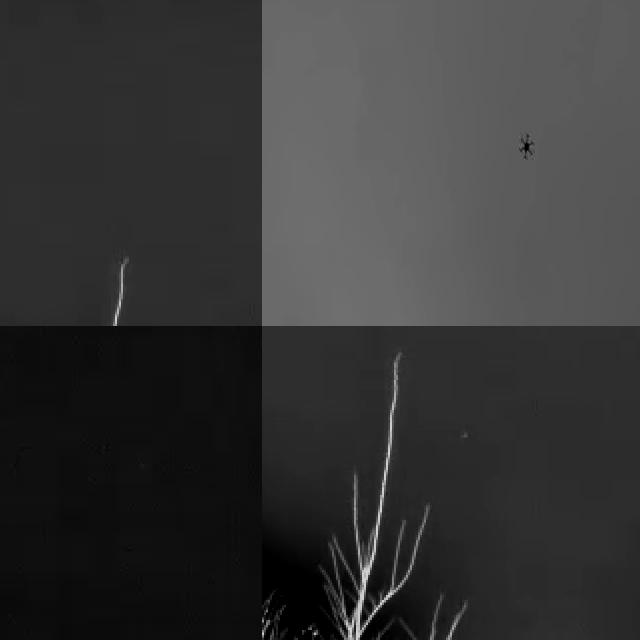0: (454, 425, 480, 455)
drone: (517, 128, 538, 162)
